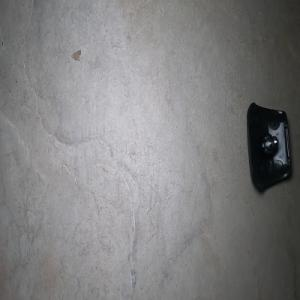LuggagePart: (245, 101, 293, 193)
